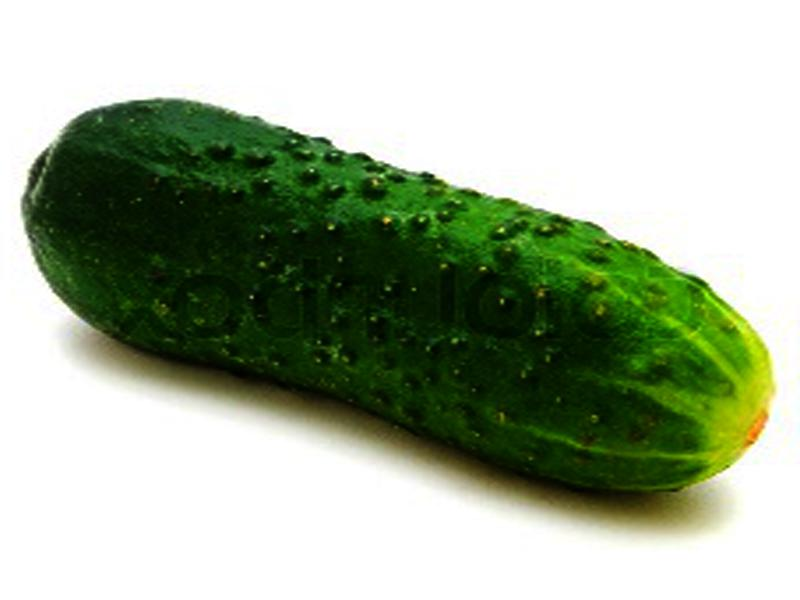Cucumber: (27, 98, 774, 494)
